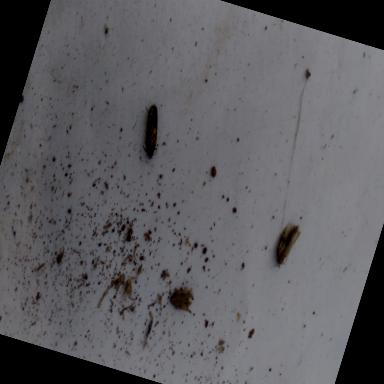pbw: (128, 97, 172, 164), (270, 217, 304, 273)
